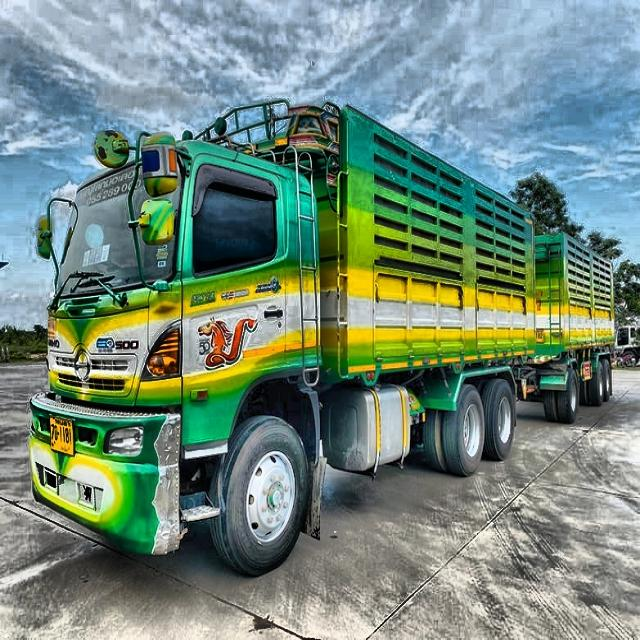trailer: (29, 88, 616, 589)
